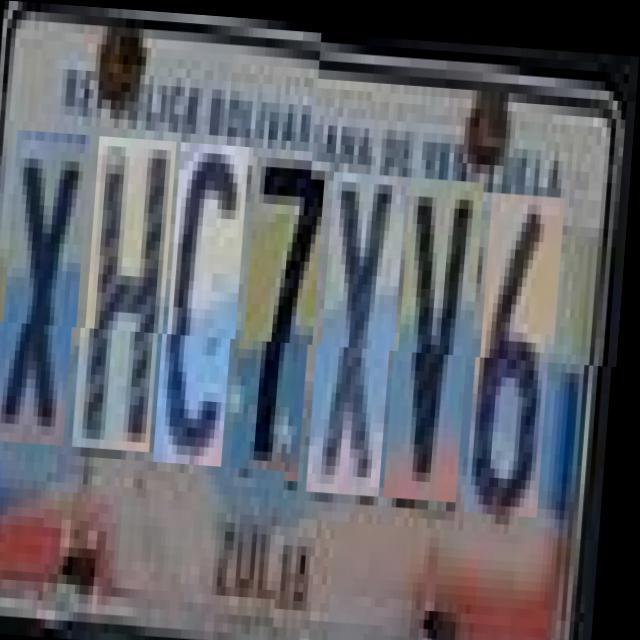6: (476, 185, 567, 509)
7: (241, 152, 328, 476)
C: (164, 148, 250, 472)
H: (83, 144, 178, 458)
V: (395, 171, 486, 495)
X: (318, 167, 409, 490), (1, 138, 92, 454)
